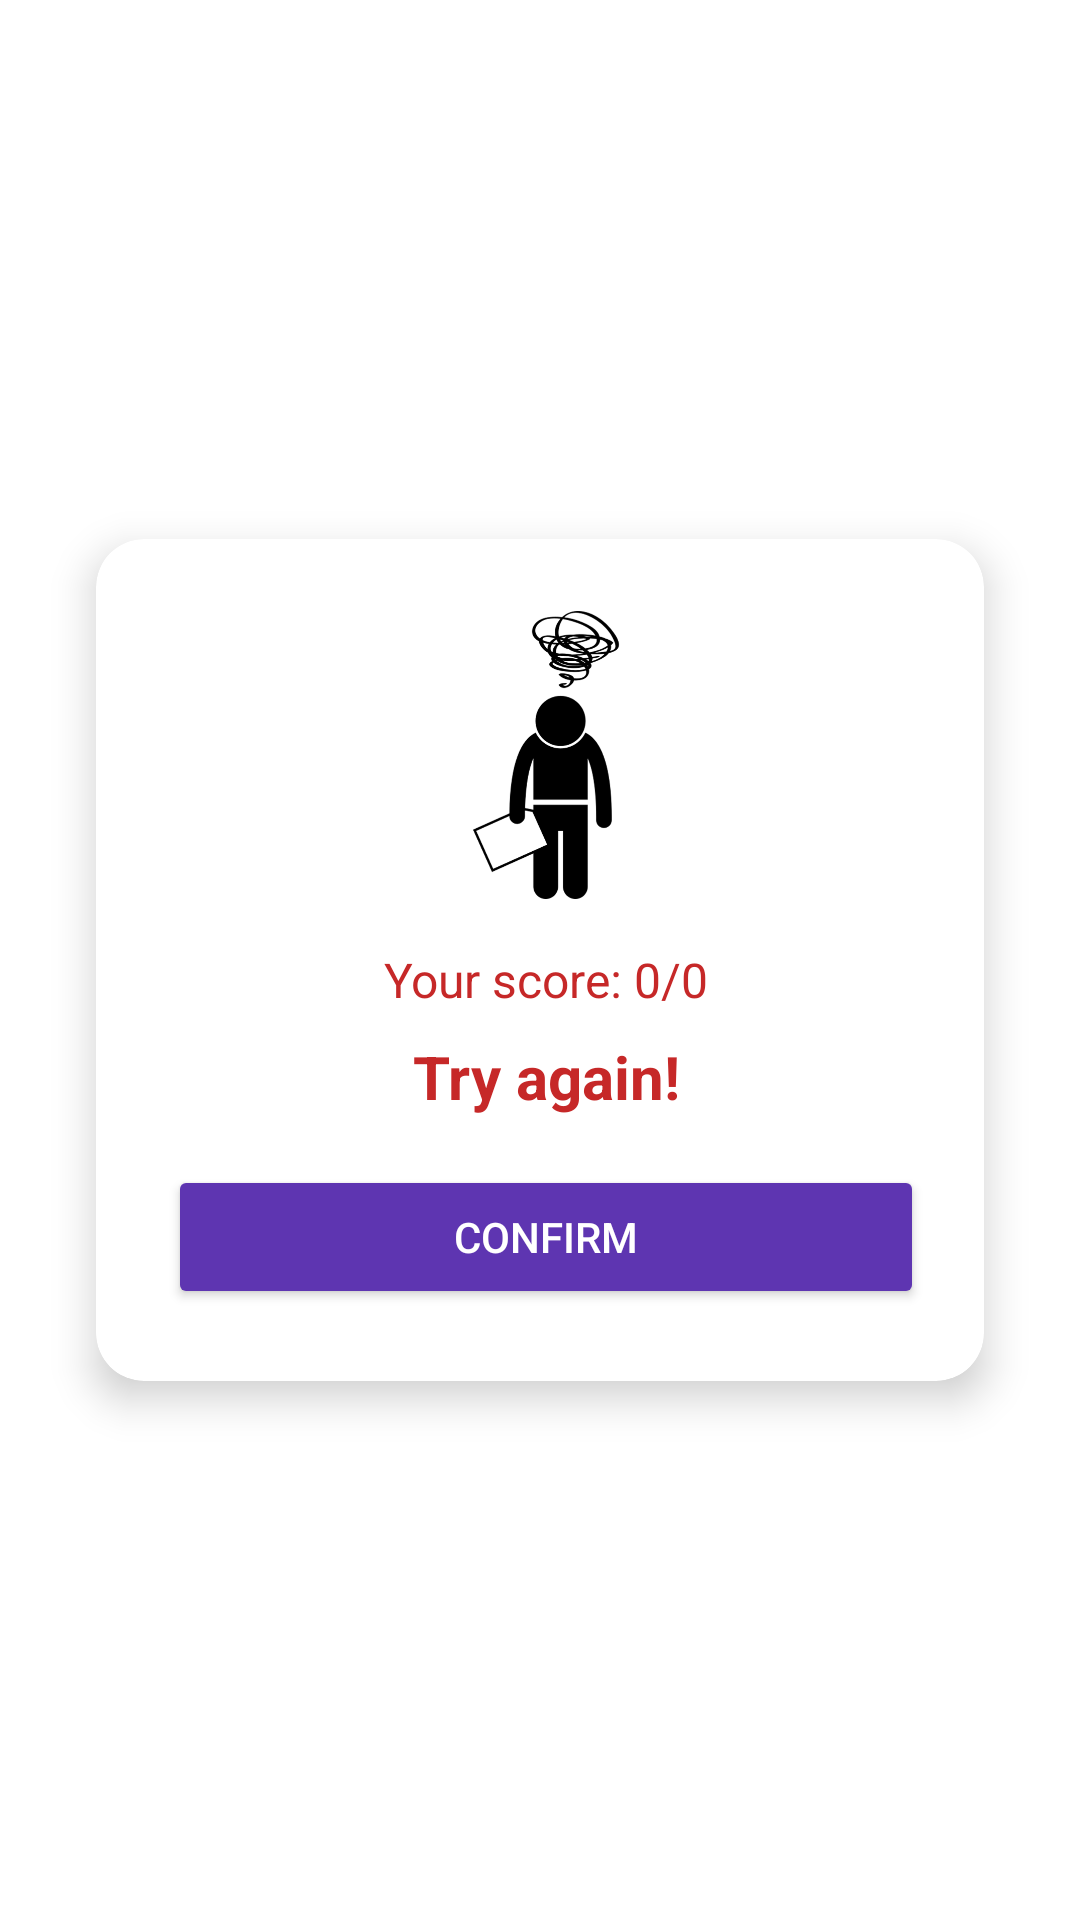

Icons on this 1080px×1920px Android screen, each with its box as box=[x1, y1, x2, y2]:
emoji failed: box=[473, 611, 619, 899]
